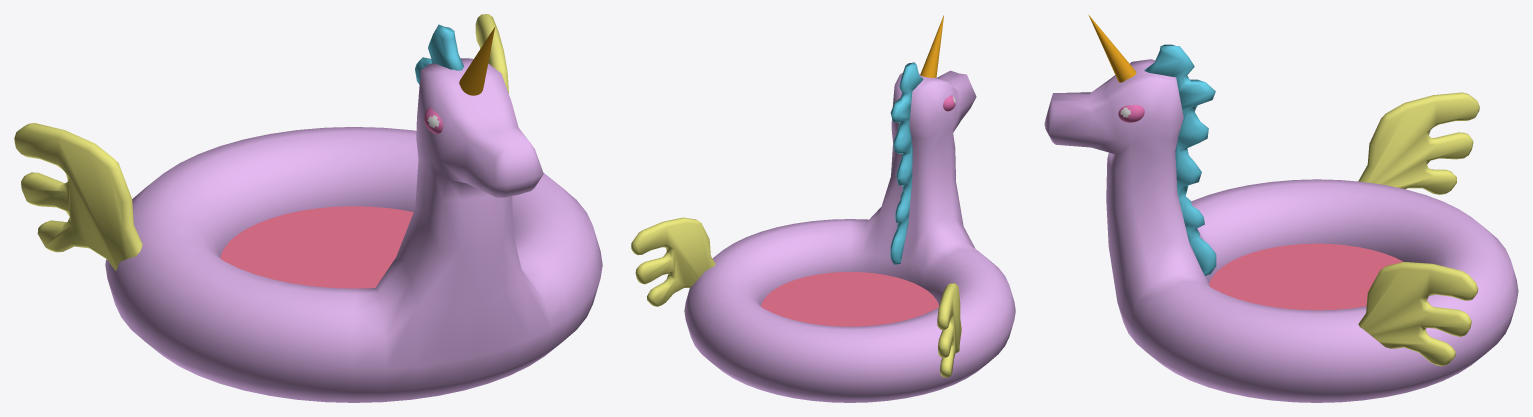
Rendered from UnicornTube.fbx.
3 views of the same model, side by side, from view 1: azimuth 30°, elevation 25°; view 2: azimuth 150°, elevation 25°; view 3: azimuth 270°, elevation 25° (orthographic). The views are drawn at different scales.
Visible parts, largest first — view 1: Torus, Cylinder, Plane.003, Plane.001, Plane.002, Cone; view 2: Torus, Cylinder, Plane.002, Plane.001, Plane.003, Cone; view 3: Torus, Cylinder, Plane.002, Plane.003, Plane.001, Cone.
Boxes of the visible parts, x1,y1,x2,y2 form: Torus: [105, 58, 602, 402]; Cylinder: [220, 206, 413, 288]; Plane.003: [14, 123, 142, 270]; Plane.001: [415, 24, 464, 84]; Plane.002: [475, 14, 508, 93]; Cone: [459, 26, 495, 95]; Torus: [684, 70, 1015, 402]; Cylinder: [761, 272, 938, 326]; Plane.002: [631, 217, 715, 306]; Plane.001: [890, 62, 923, 264]; Plane.003: [937, 283, 961, 377]; Cone: [920, 15, 943, 77]; Torus: [1044, 59, 1518, 402]; Cylinder: [1209, 243, 1403, 310]; Plane.002: [1358, 262, 1478, 366]; Plane.003: [1358, 92, 1479, 194]; Plane.001: [1144, 44, 1216, 275]; Cone: [1088, 14, 1136, 82].
Bounding box in the file's own units: 287 × 227 × 306.
